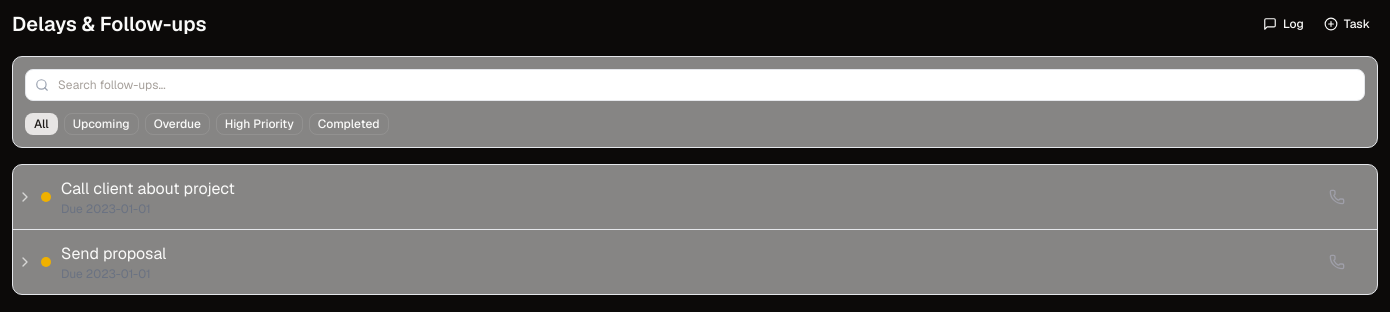
ClientFollowUps › Filtering › should filter tasks by search query
Expected: the text "Call client about project" is shown, x1=61 y1=177 x2=235 y2=201
Expected: the text "Send proposal" is shown, x1=61 y1=242 x2=166 y2=266
# Search for "call"
In the field with placeholder "Search follow-ups...": coordinates (695, 85) x1=25 y1=69 x2=1365 y2=101, type "call"
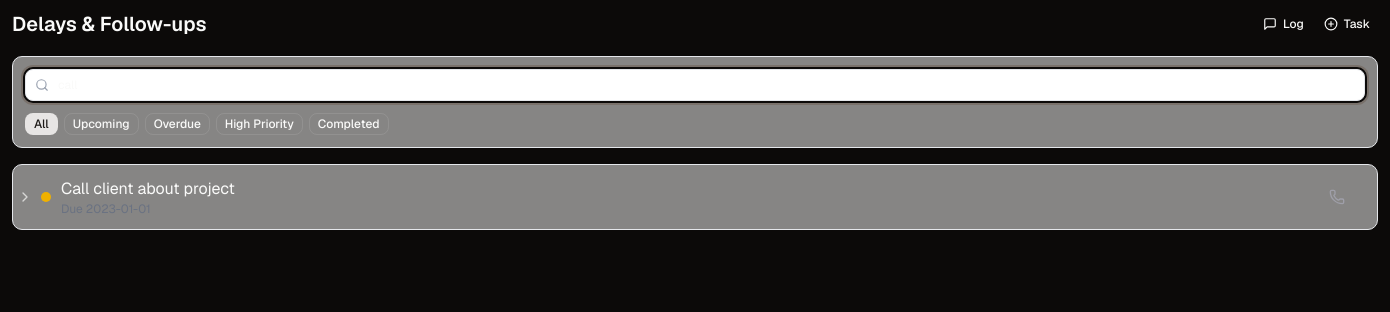
Expected: the text "Call client about project" is shown, x1=61 y1=177 x2=235 y2=201
Result: the text "Send proposal" is gone
